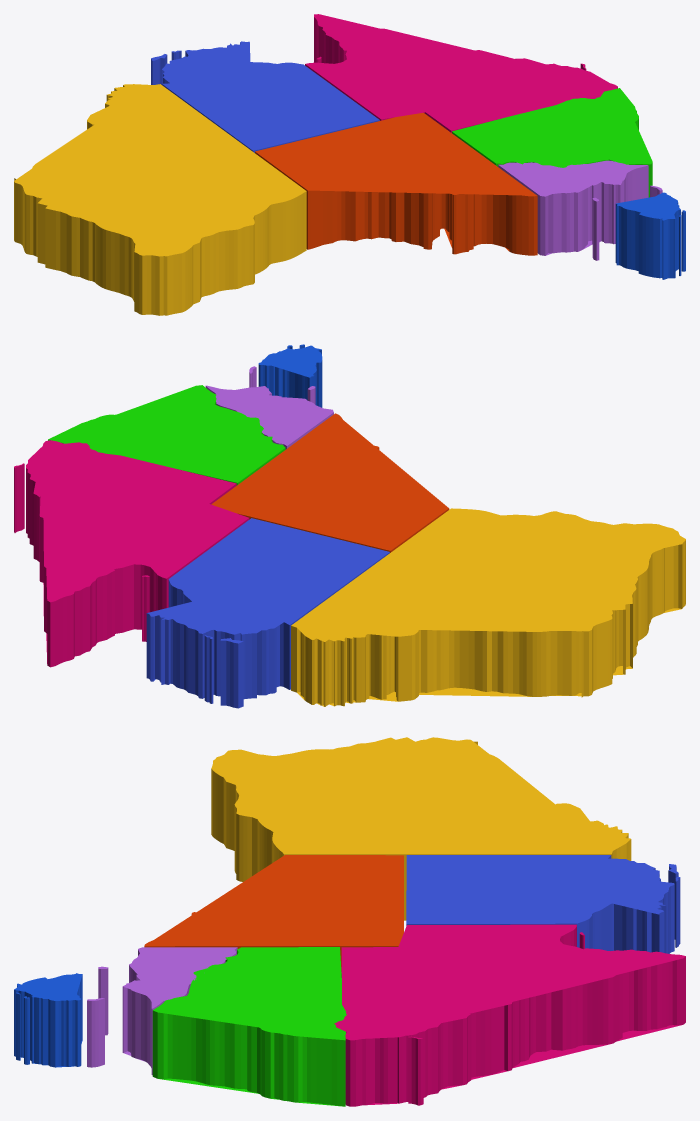
File: australia7.fbx
3 views of the same model, one above another, from view 1: azimuth 30°, elevation 25°; view 2: azimuth 150°, elevation 25°; view 3: azimuth 270°, elevation 25° (orthographic). The views are drawn at different scales.
Visible parts, largest first — view 1: BL|block 2_curve_, BL|block 2_curve_.003, BL|block 2_curve_.002, BL|block 2_curve_.001, BL|block 6_curve_, BL|block 2_curve_.004, BL|block 2_curve_.005; view 2: BL|block 2_curve_, BL|block 2_curve_.002, BL|block 2_curve_.001, BL|block 2_curve_.003, BL|block 6_curve_, BL|block 2_curve_.004, BL|block 2_curve_.005; view 3: BL|block 2_curve_.002, BL|block 2_curve_, BL|block 6_curve_, BL|block 2_curve_.001, BL|block 2_curve_.003, BL|block 2_curve_.004, BL|block 2_curve_.005.
Part boxes in pixels (x1,y1,x2,y2): BL|block 2_curve_: (14,84,306,315); BL|block 2_curve_.003: (255,112,537,255); BL|block 2_curve_.002: (305,14,617,132); BL|block 2_curve_.001: (151,41,379,152); BL|block 6_curve_: (452,88,652,197); BL|block 2_curve_.004: (498,160,662,260); BL|block 2_curve_.005: (615,192,685,279); BL|block 2_curve_: (291,508,685,706); BL|block 2_curve_.002: (14,440,249,667); BL|block 2_curve_.001: (146,518,389,708); BL|block 2_curve_.003: (211,413,449,552); BL|block 6_curve_: (48,385,285,485); BL|block 2_curve_.004: (205,366,333,449); BL|block 2_curve_.005: (258,344,322,407); BL|block 2_curve_.002: (334,924,685,1106); BL|block 2_curve_: (211,737,631,920); BL|block 6_curve_: (152,947,346,1106); BL|block 2_curve_.001: (406,855,680,953); BL|block 2_curve_.003: (144,855,403,971); BL|block 2_curve_.004: (87,947,237,1074); BL|block 2_curve_.005: (14,973,82,1067).
Bounding box in the file's own units: 14678 × 1500 × 13751.
